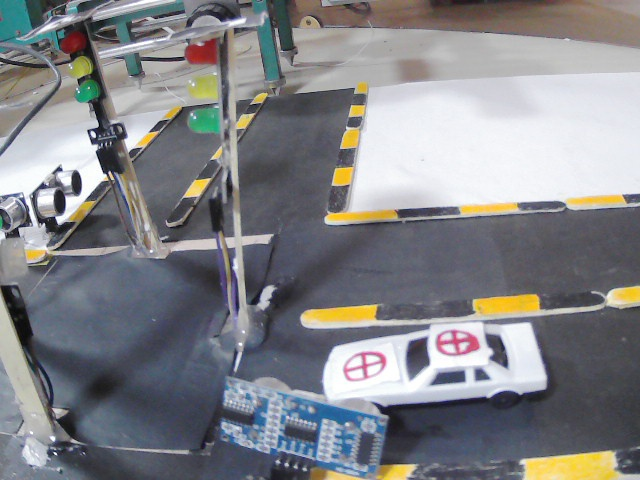emergency_vehicle: (323, 319, 551, 407)
traffic_light: (53, 25, 130, 159), (180, 36, 235, 148)
uno_breadboard: (218, 373, 392, 480), (27, 163, 85, 227), (0, 190, 31, 231)
